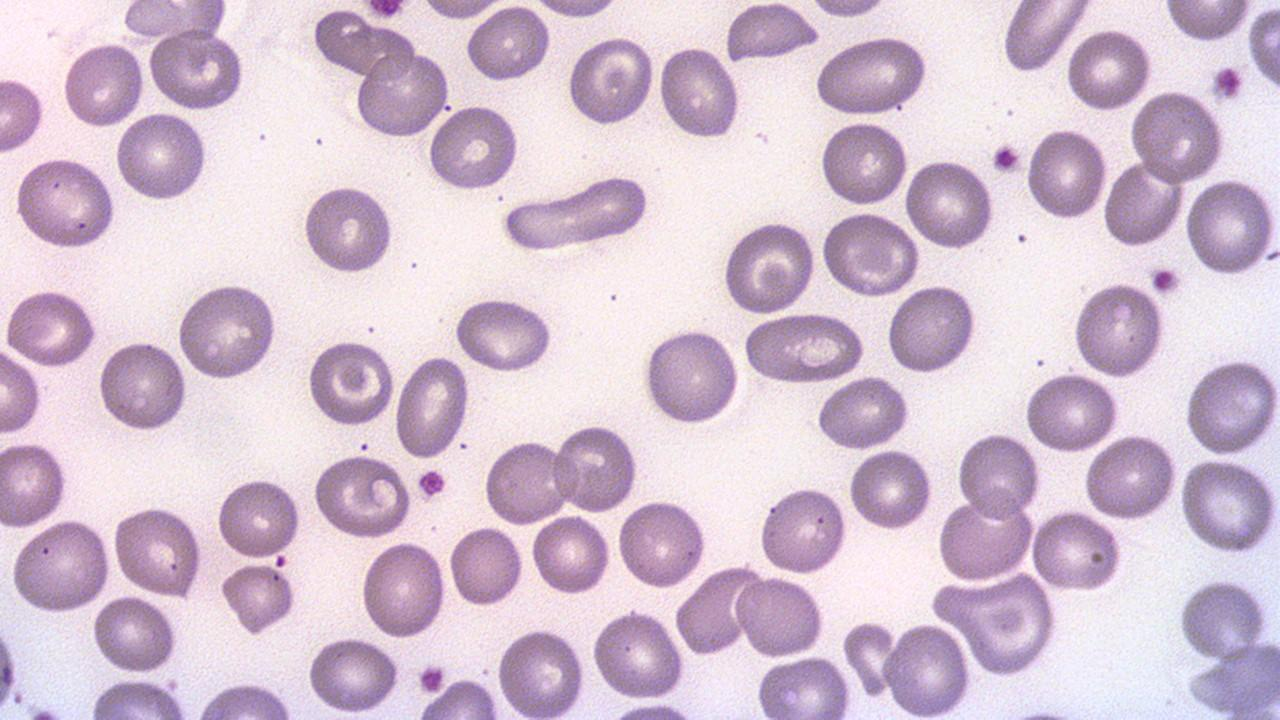Platelets: (1210, 62, 1246, 104), (416, 659, 448, 697), (990, 141, 1024, 175), (1149, 265, 1183, 297), (416, 466, 448, 500)
RBC: (499, 175, 654, 254), (954, 572, 1055, 680), (176, 279, 279, 383), (9, 516, 113, 616), (640, 326, 742, 427), (1177, 456, 1279, 556), (13, 155, 118, 252), (1183, 355, 1279, 457), (814, 34, 930, 118), (1071, 280, 1167, 381), (1182, 175, 1276, 278), (720, 217, 816, 317), (935, 491, 1037, 583), (743, 311, 868, 386), (358, 538, 448, 642), (1129, 89, 1225, 186), (112, 109, 209, 205), (819, 208, 921, 299), (590, 607, 687, 702), (111, 501, 204, 600), (902, 155, 996, 252), (302, 180, 396, 276), (884, 282, 978, 378), (96, 336, 189, 433), (352, 48, 450, 140), (310, 452, 412, 540), (304, 335, 398, 430), (1082, 432, 1180, 522), (495, 624, 588, 718), (426, 102, 522, 193), (565, 33, 656, 129), (616, 496, 708, 590), (757, 482, 848, 577), (884, 620, 972, 718), (1022, 368, 1120, 456), (656, 42, 742, 141), (1023, 125, 1109, 223), (1179, 634, 1279, 718), (309, 5, 416, 83), (818, 118, 910, 208), (1176, 576, 1270, 664), (450, 296, 557, 373), (393, 354, 470, 460), (146, 29, 246, 110), (1101, 156, 1187, 250), (553, 421, 639, 515), (2, 287, 100, 368), (814, 372, 912, 453), (482, 436, 570, 526), (1031, 509, 1123, 595), (956, 430, 1042, 522), (674, 565, 758, 659), (1065, 26, 1153, 115), (734, 574, 826, 659), (305, 634, 402, 714), (216, 473, 303, 561), (847, 446, 934, 534), (90, 592, 179, 676), (63, 40, 146, 130), (529, 510, 613, 598), (464, 3, 554, 85), (998, 1, 1096, 76), (448, 523, 526, 609), (0, 438, 71, 530), (752, 655, 854, 717), (723, 1, 820, 63), (220, 560, 299, 636), (84, 676, 193, 718), (114, 0, 234, 37), (0, 342, 45, 438), (193, 680, 296, 720), (0, 73, 47, 156), (1162, 1, 1250, 44), (416, 676, 502, 719), (1246, 3, 1280, 93), (0, 611, 20, 720), (530, 0, 626, 21), (418, 0, 502, 22), (804, 0, 890, 21)
